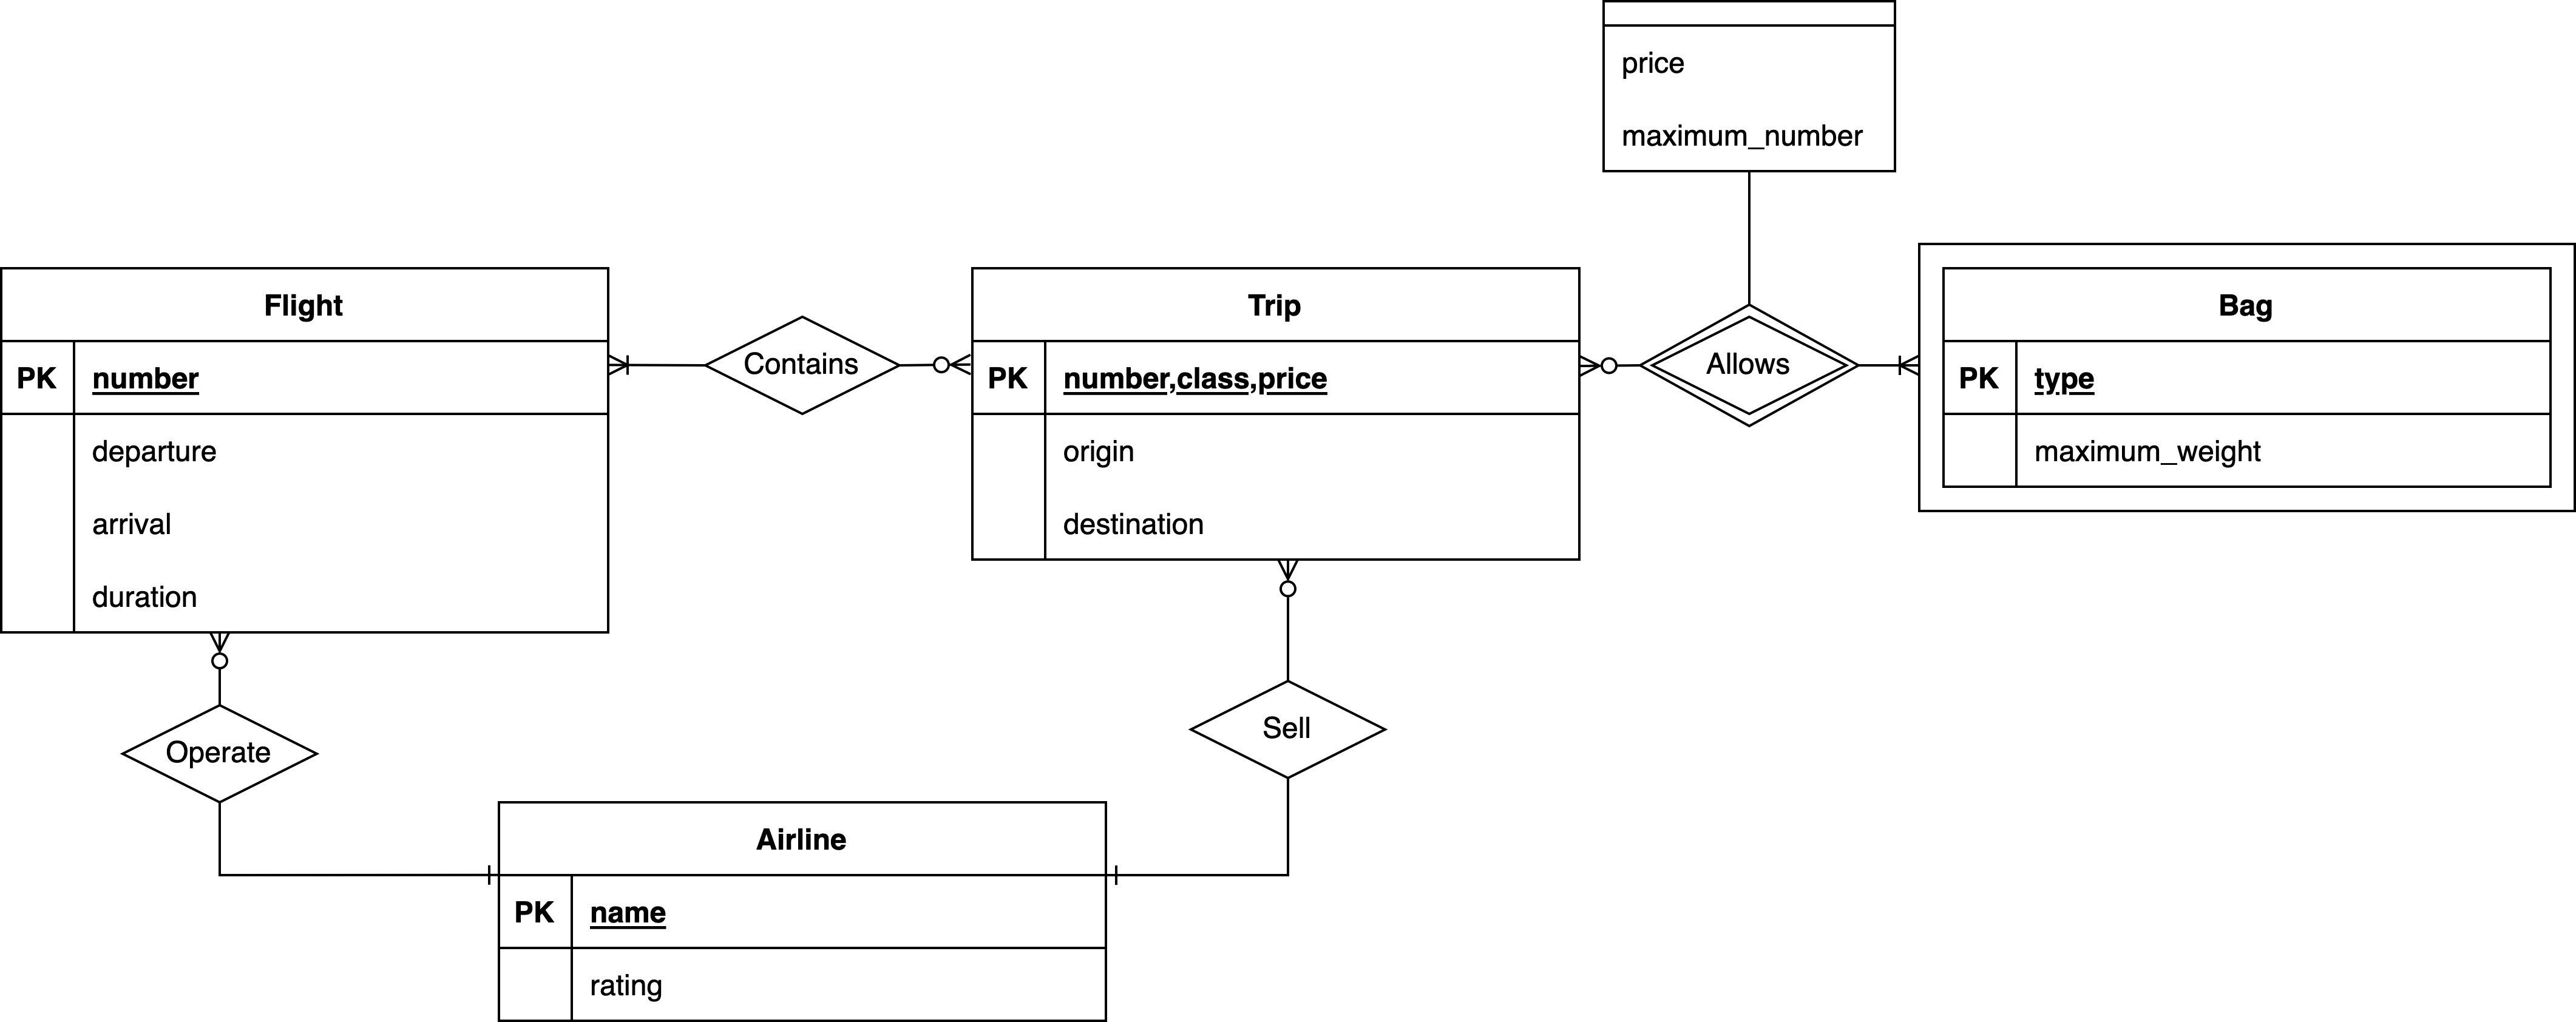entity: (3, 268, 609, 638), (971, 269, 1579, 562), (499, 799, 1111, 1022), (1603, 5, 1894, 174)
ident_rel: (1644, 306, 1853, 427)
many: (1275, 559, 1304, 680), (606, 350, 706, 381), (897, 350, 969, 378), (1855, 353, 1922, 381), (1580, 352, 1643, 381), (209, 629, 230, 705)
one: (430, 863, 499, 889), (1107, 863, 1176, 887)
rel: (123, 707, 320, 803), (1193, 684, 1385, 782), (708, 322, 890, 417)
weak_entity: (1916, 243, 2576, 514)
